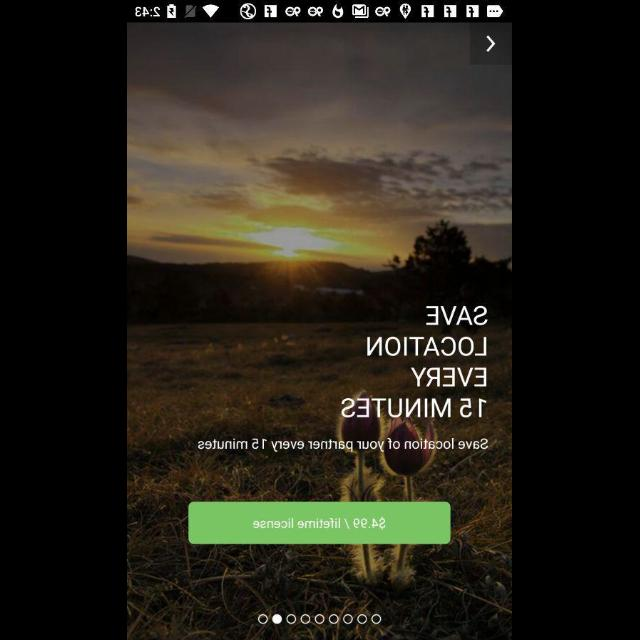backgroundimage: (128, 24, 512, 640)
icon: (470, 24, 512, 64)
pageindicator: (258, 614, 382, 624)
text: (342, 306, 488, 418), (198, 438, 490, 452)
textbutton: (188, 501, 452, 545)
uppertaskbar: (128, 1, 512, 23)
